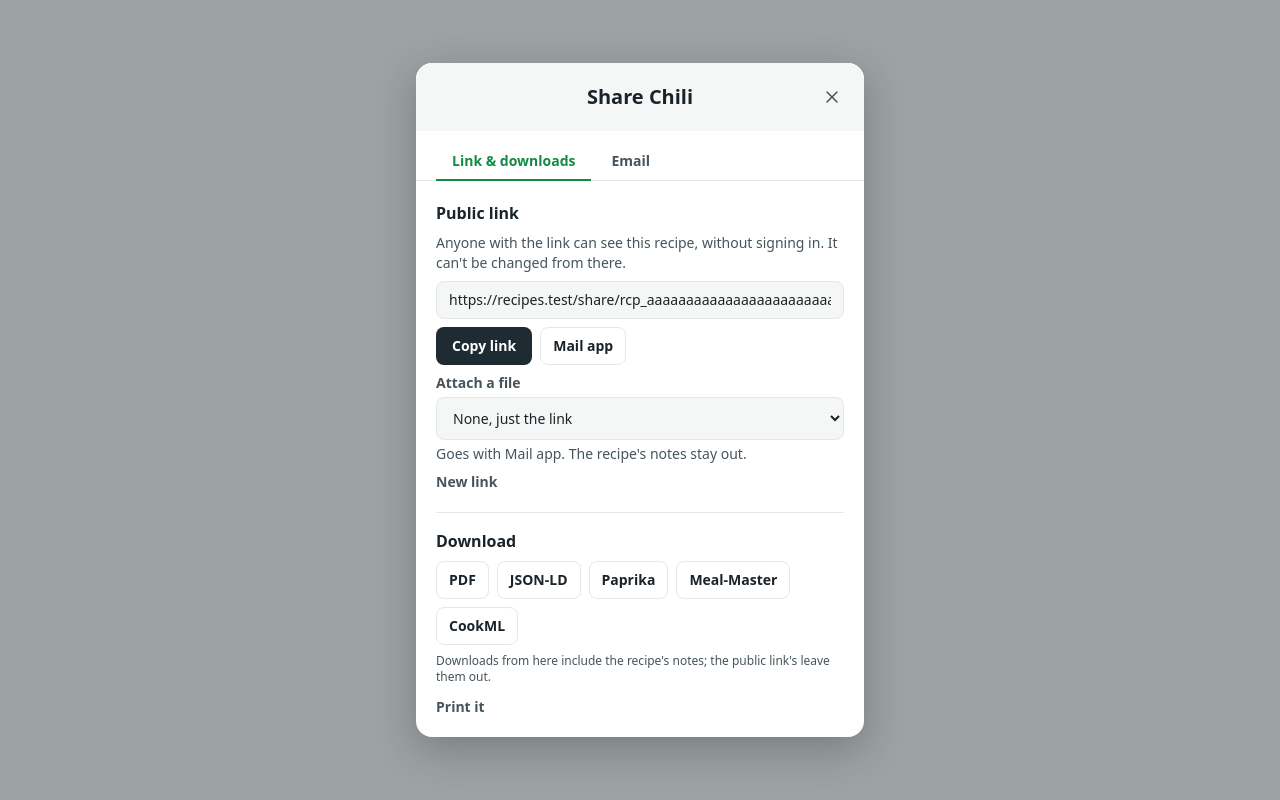
Test: ways to send it (Share) › two tabs: Link & downloads (to start with) and Email
Expected: the field showing "https://recipes.test/share/rcp_aaaaaaaaaaaaaaaaaaaaaaaaaaaaaaaa" is shown, x1=436 y1=281 x2=844 y2=319
Expected: the element "Download" is shown, x1=436 y1=512 x2=844 y2=685
Step 1. Click the tab "Email" → (631, 162), box x1=596 y1=143 x2=666 y2=181
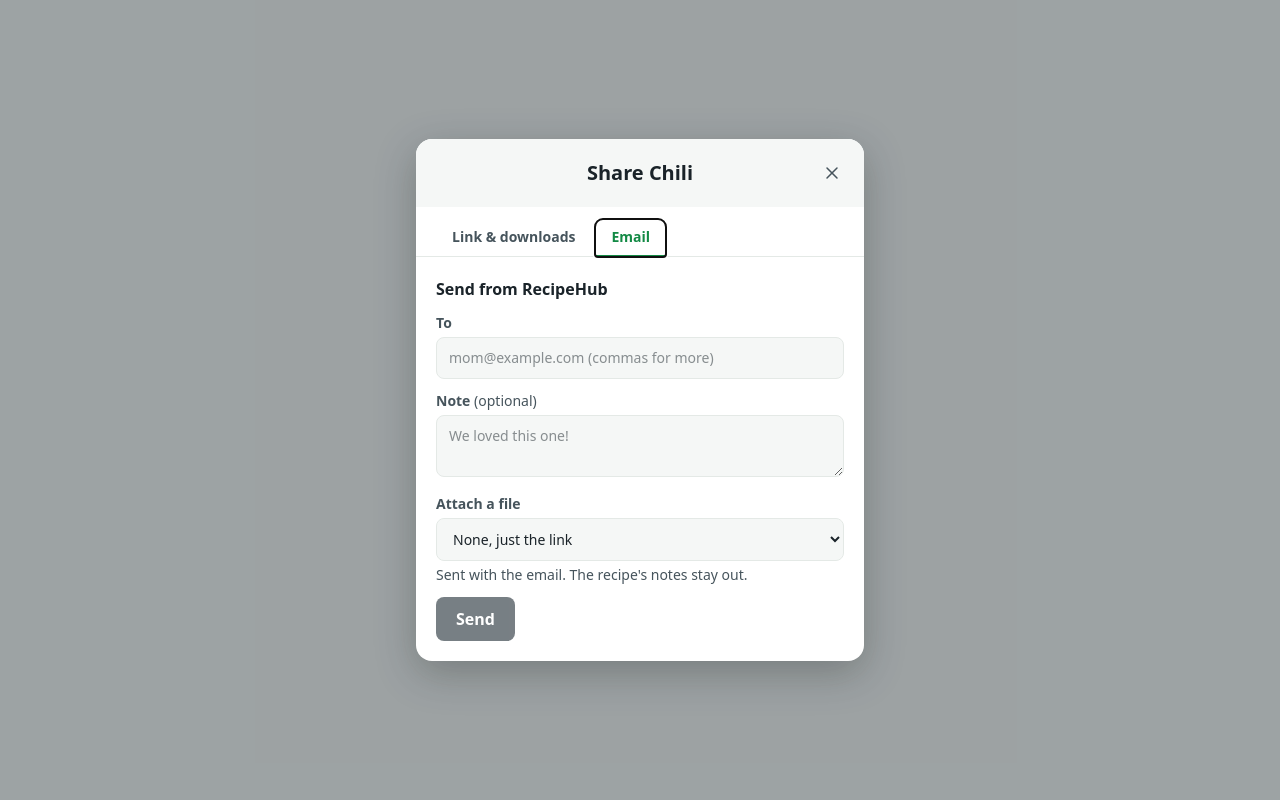
Now the form "Send from RecipeHub" is shown, box x1=436 y1=277 x2=844 y2=641
